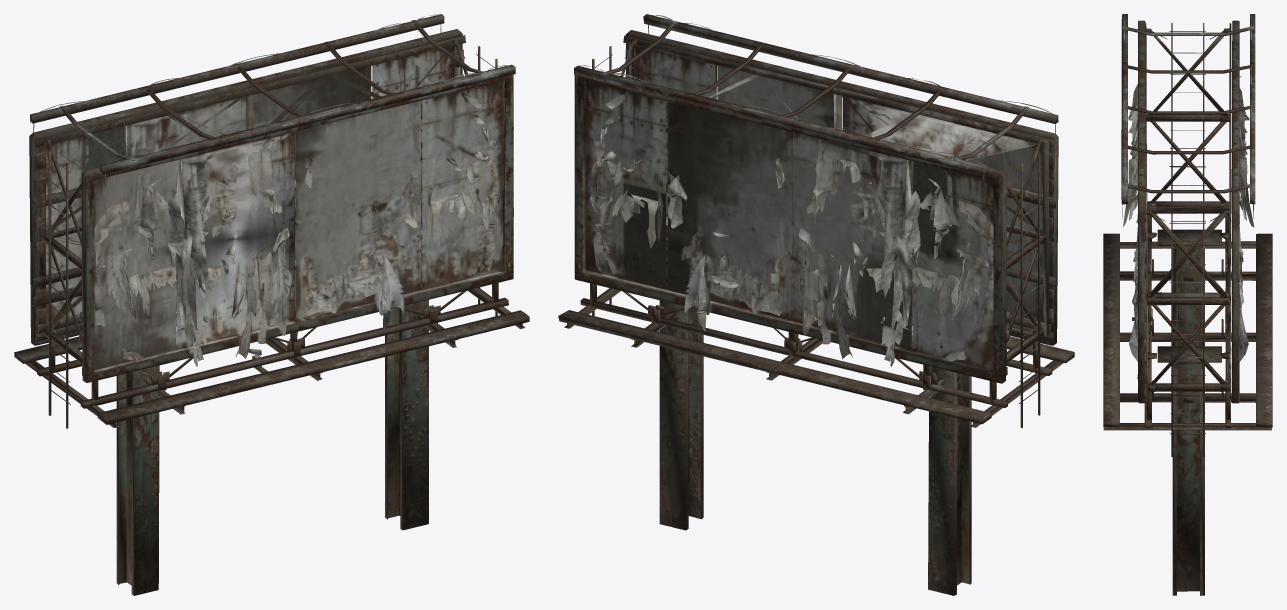
Rendered from road_billboard.glb.
3 views of the same model, side by side, from view 1: azimuth 30°, elevation 25°; view 2: azimuth 150°, elevation 25°; view 3: azimuth 270°, elevation 25° (orthographic). The views are drawn at different scales.
Size of the model in its own units: 0.9258 by 0.9536 by 0.3418.
Materials: 1 (1 with a texture image).
